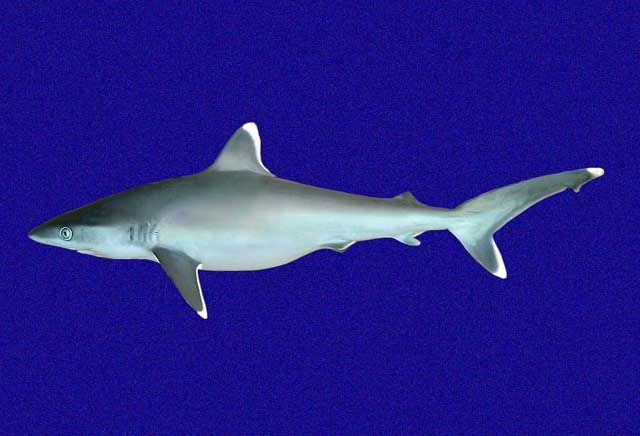fish: (28, 121, 606, 319)
